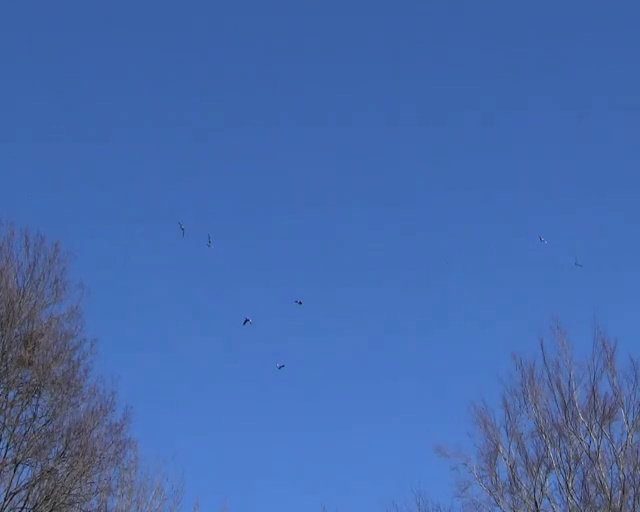BIRD: (294, 299, 303, 305)
